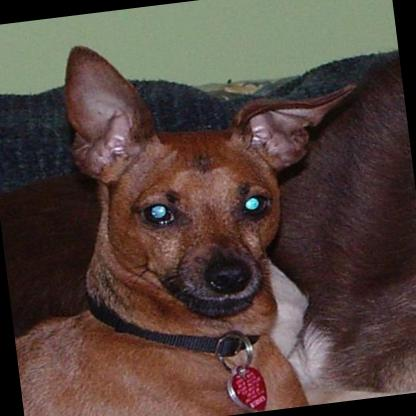miniature_pinscher: (0, 11, 393, 416)
